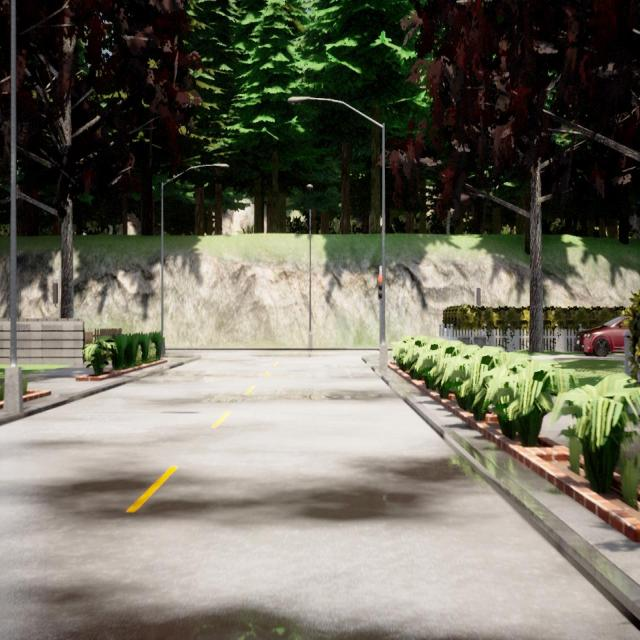Vehicle: (574, 316, 631, 357)
traffic_light: (377, 274, 383, 300), (477, 287, 482, 306)
